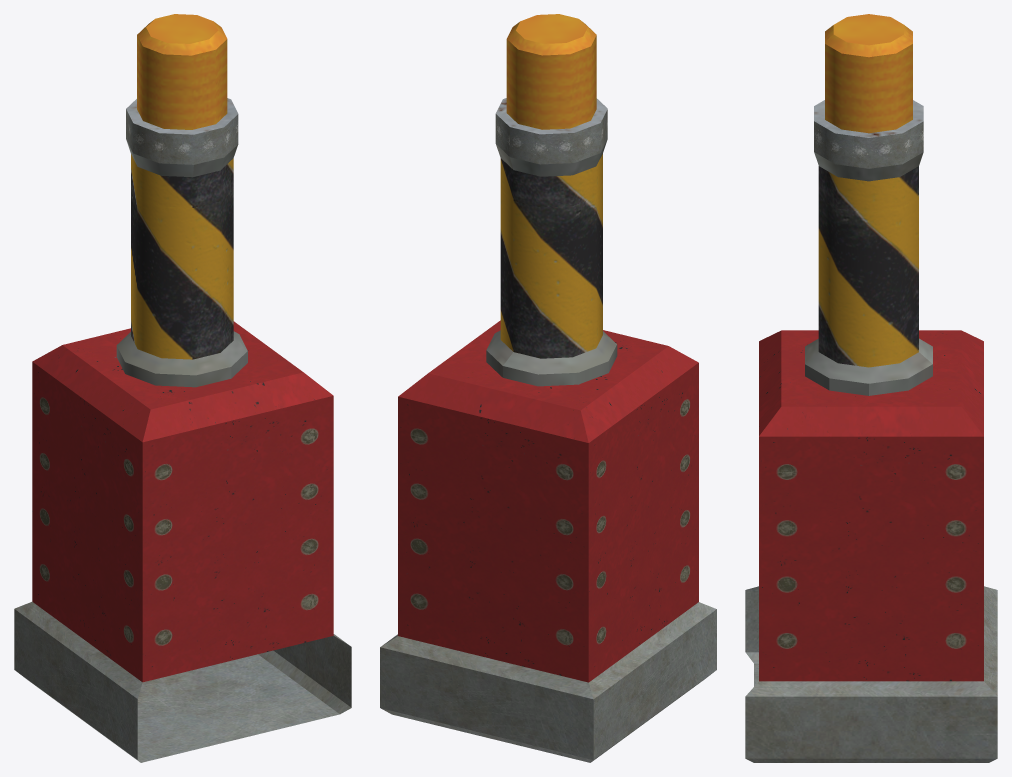
Rendered from Ob_RailingConnectorLight_RC.fbx.
3 renders of one model, left to right at view 1: azimuth 30°, elevation 25°; view 2: azimuth 150°, elevation 25°; view 3: azimuth 270°, elevation 25°, orthographic. The views are drawn at different scales.
Parts seen in each view (by area): view 1: Ob_RailingConnectorLight_RC; view 2: Ob_RailingConnectorLight_RC; view 3: Ob_RailingConnectorLight_RC.
Boxes of the visible parts, <box> form: Ob_RailingConnectorLight_RC: <box>14,14,351,762</box>; Ob_RailingConnectorLight_RC: <box>380,14,716,762</box>; Ob_RailingConnectorLight_RC: <box>745,14,997,762</box>.
Bounding box in the file's own units: 152 × 455 × 152.
